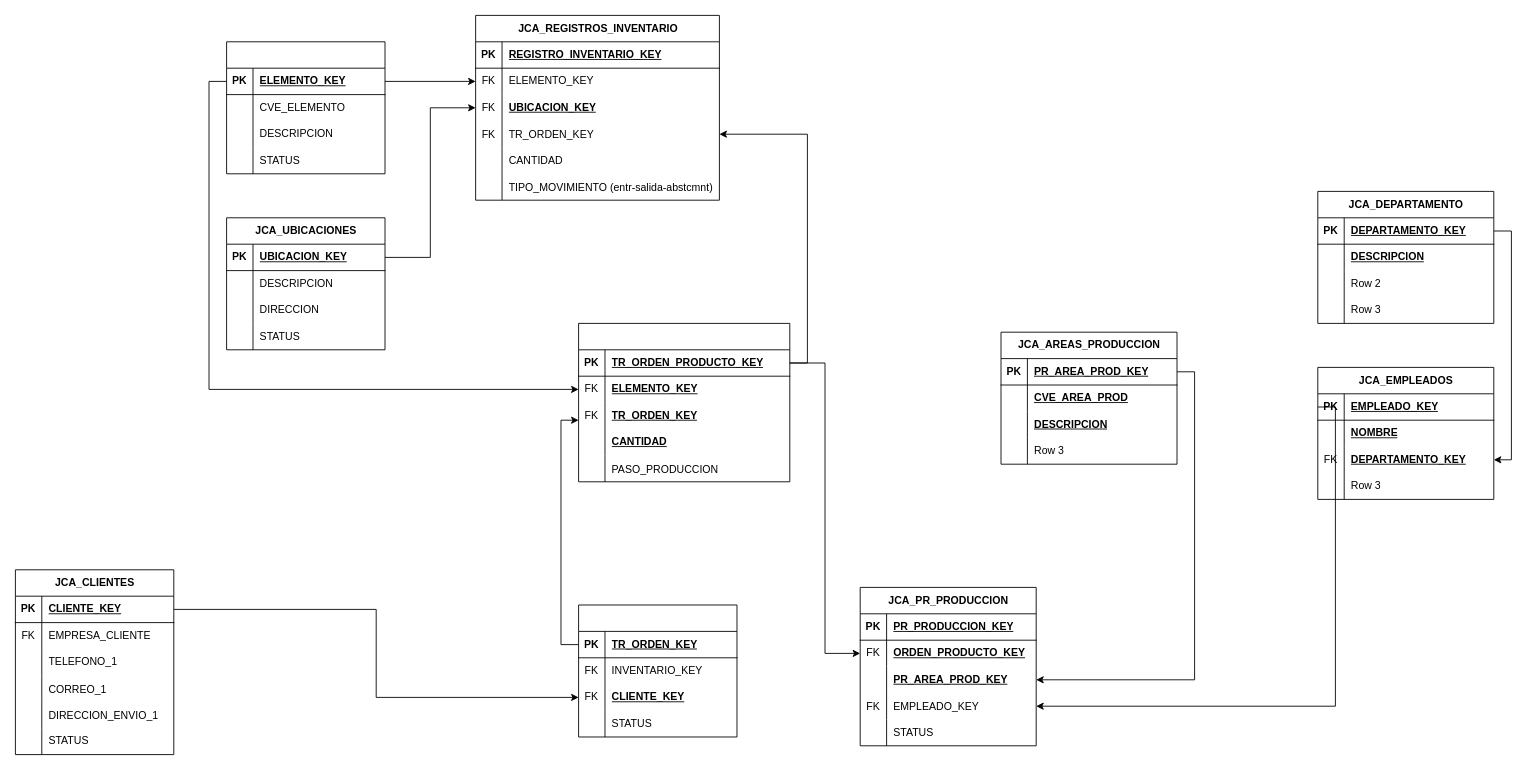
Image size: 1534x770. Some labels were removed from this diagram. Here are the shapes that lost their labels. From the top down, the box of each, then its label:
(226, 41, 385, 174): JCA_INVTRO_ELEMENTS
(578, 323, 790, 482): JCV_TR_ORDENES_PRODUCTOS
(578, 604, 737, 737): JCV_TR_ORDENES
